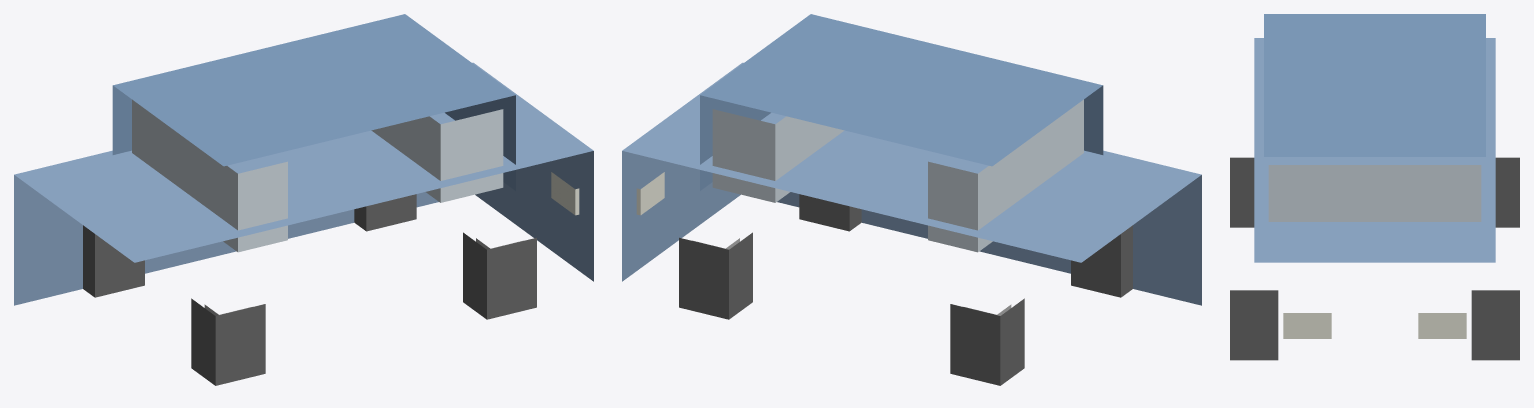
Rendered from car_sedan.glb.
3 renders of one model, left to right at view 1: azimuth 30°, elevation 25°; view 2: azimuth 150°, elevation 25°; view 3: azimuth 270°, elevation 25°, orthographic.
Size of the model in its own units: 2.22 by 0.92 by 1.2.
